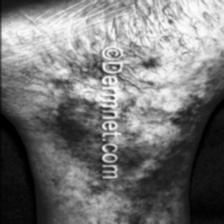Non-Cancerous Skin Condition: (124, 0, 224, 70), (49, 86, 97, 196), (120, 135, 187, 193)
